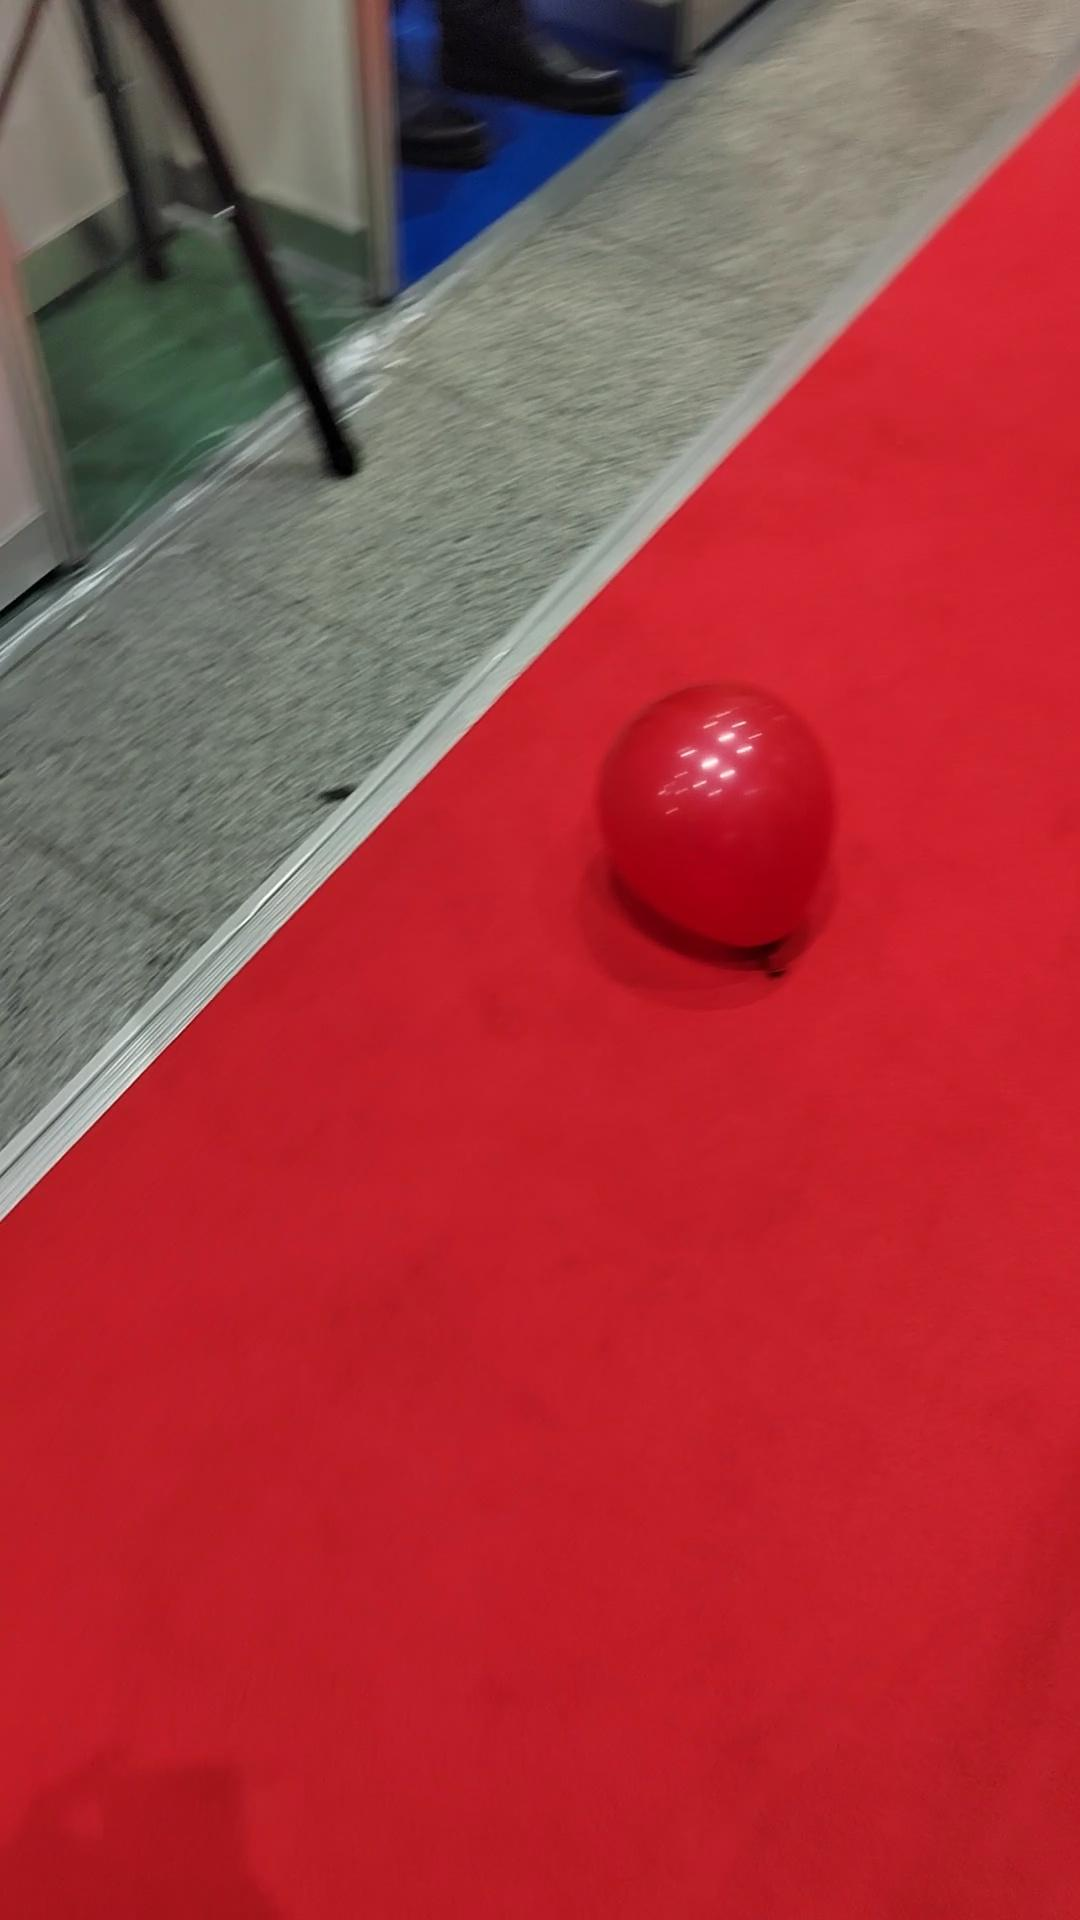red: (597, 680, 833, 951)
